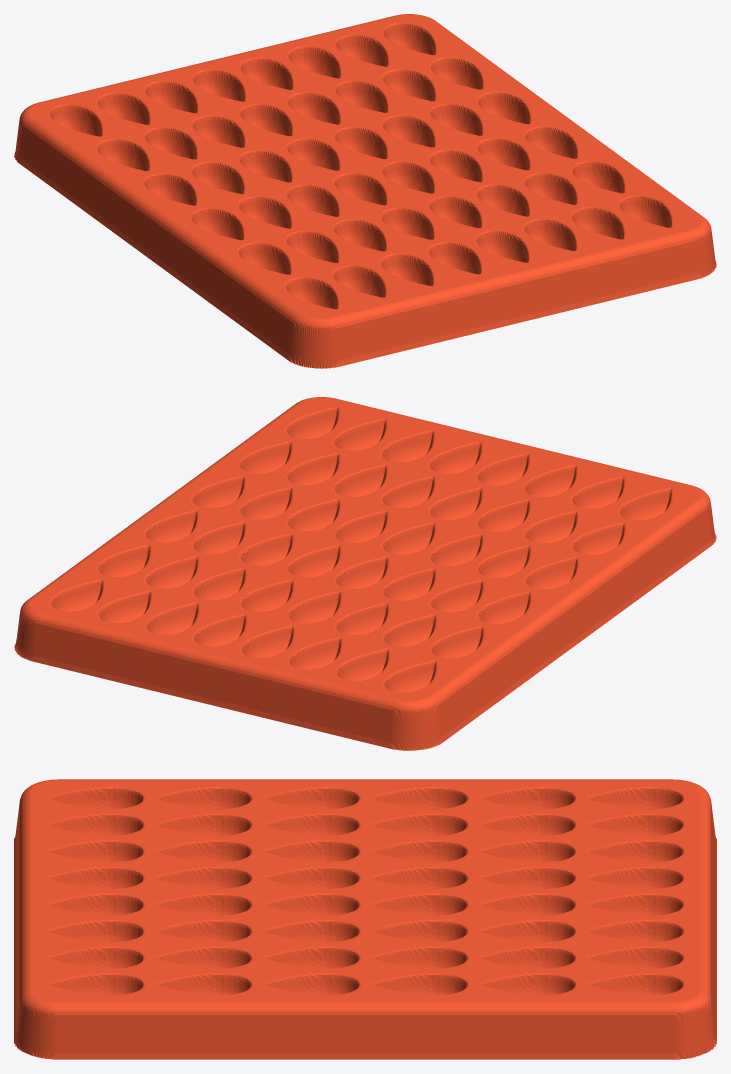
Rendered from mold.glb.
3 renders of one model, top to bottom at view 1: azimuth 30°, elevation 25°; view 2: azimuth 150°, elevation 25°; view 3: azimuth 270°, elevation 25°, orthographic. The views are drawn at different scales.
Visible parts, largest first — view 1: geometry_0; view 2: geometry_0; view 3: geometry_0.
Part boxes in pixels (x1=…): geometry_0: x1=14, y1=14, x2=716, y2=368; geometry_0: x1=14, y1=397, x2=716, y2=750; geometry_0: x1=14, y1=779, x2=716, y2=1059.
Size of the model in its own units: 0.1148 by 0.0114 by 0.1443.
